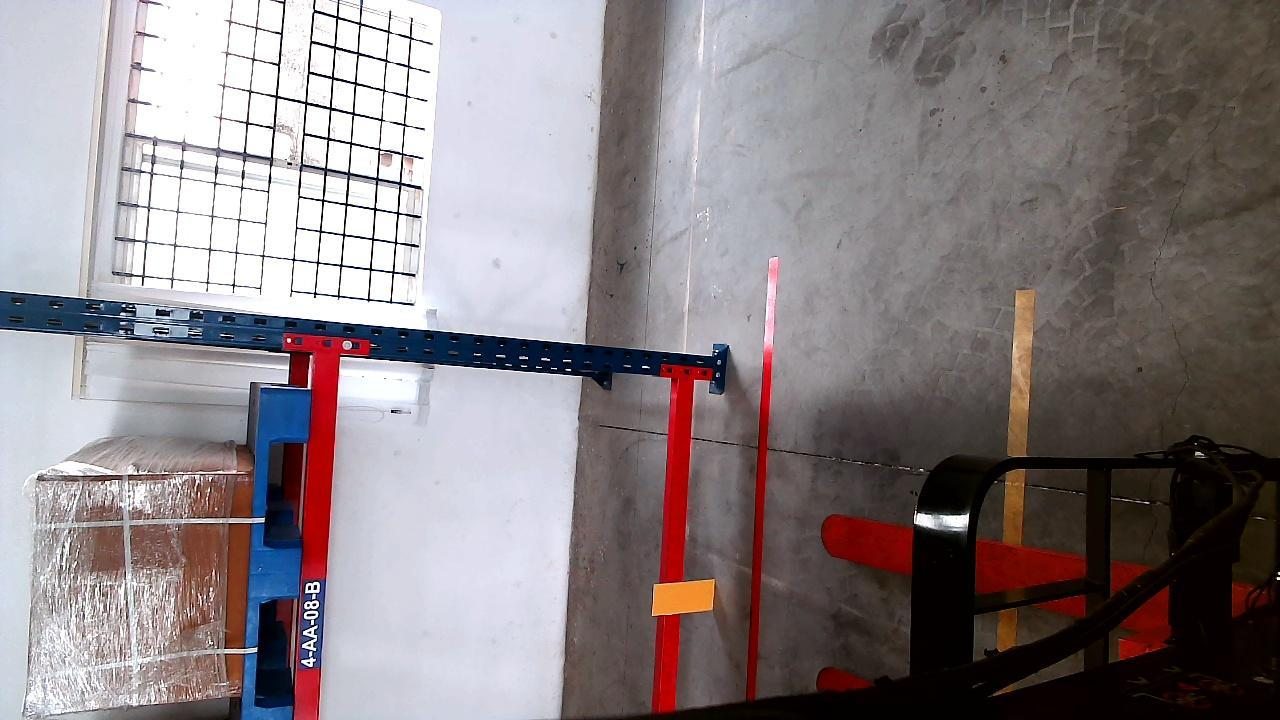red_line: (744, 257, 779, 698)
yellow_line: (1003, 288, 1032, 544)
